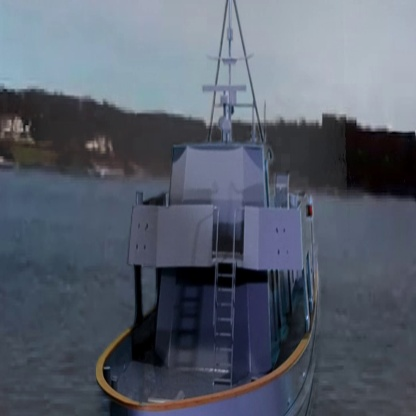YP689: (91, 0, 325, 416)
